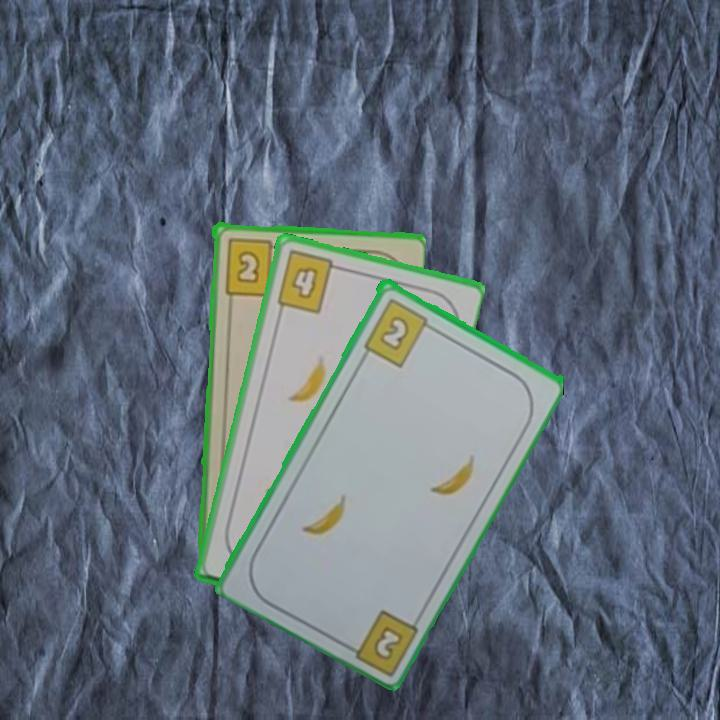2b: (359, 294, 438, 369), (221, 234, 284, 298), (369, 621, 406, 663)
4b: (273, 247, 345, 317)
